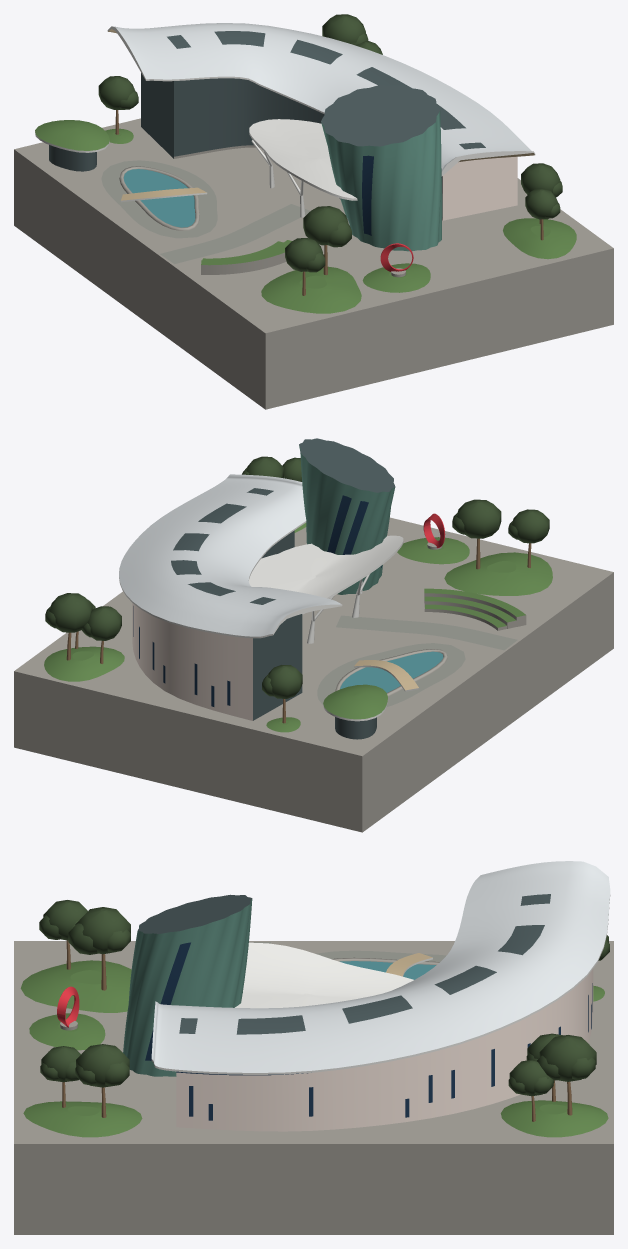
Rendered from top-prebuilt.fbx.
The picture shows the model from 3 angles, top to bottom: view 1: azimuth 30°, elevation 25°; view 2: azimuth 150°, elevation 25°; view 3: azimuth 270°, elevation 25°; orthographic projection. The views are drawn at different scales.
Visible parts, largest first — view 1: a1066/0/top-prebuilt; view 2: a1066/0/top-prebuilt; view 3: a1066/0/top-prebuilt.
Part boxes in pixels (x1,y1,x2,y2): a1066/0/top-prebuilt: (14,14,613,409); a1066/0/top-prebuilt: (14,438,613,832); a1066/0/top-prebuilt: (14,861,613,1234).
Bounding box in the file's own units: 48 × 27 × 60.
